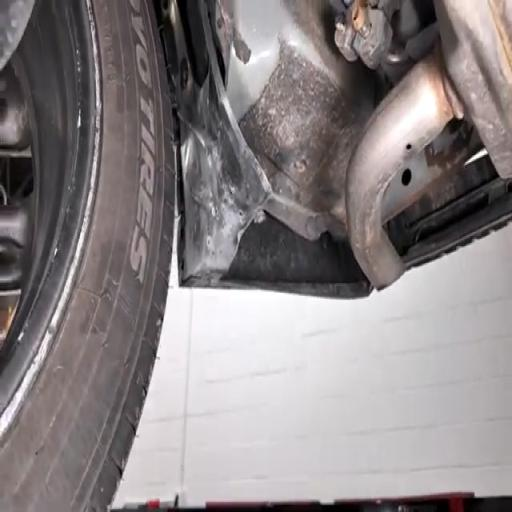tire: (0, 0, 174, 511)
wheel: (0, 0, 174, 511)
